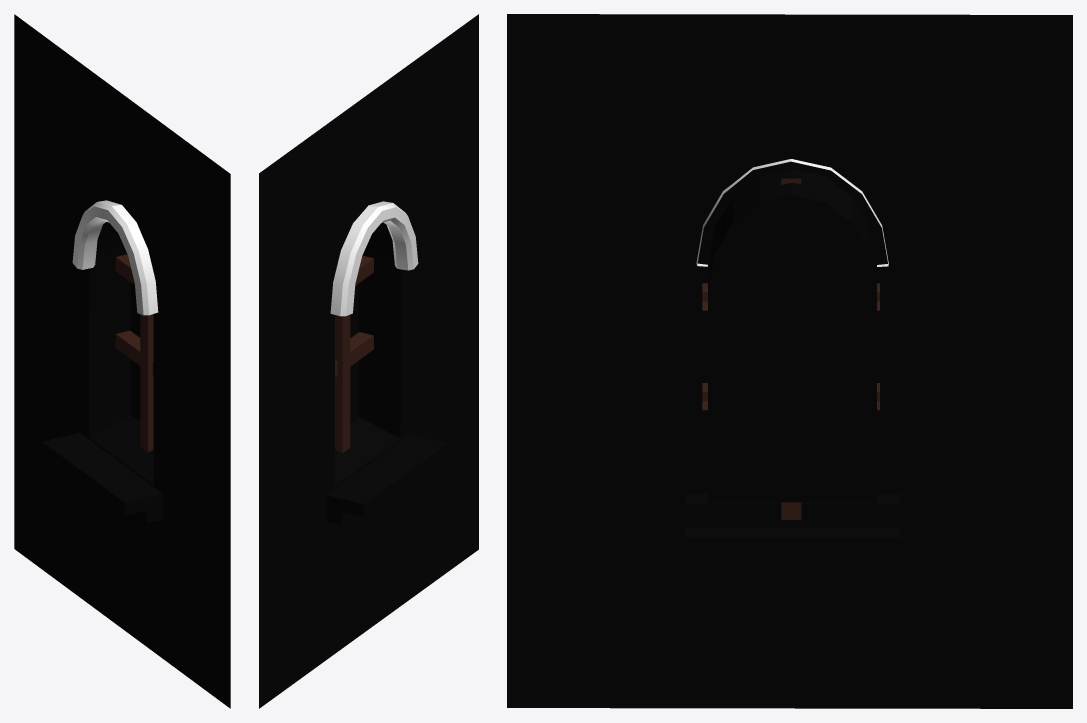
Rendered from standard_window_12.FBX.
3 renders of one model, left to right at view 1: azimuth 30°, elevation 25°; view 2: azimuth 150°, elevation 25°; view 3: azimuth 270°, elevation 25°, orthographic. The views are drawn at different scales.
Visible parts, largest first — view 1: standard_window_12; view 2: standard_window_12; view 3: standard_window_12.
Part boxes in pixels (x1,y1,x2,y2): standard_window_12: [14, 14, 230, 708]; standard_window_12: [259, 14, 478, 708]; standard_window_12: [507, 14, 1072, 708].
Bounding box in the file's own units: 70.05 × 448 × 331.
